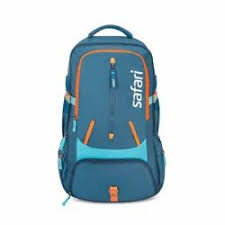backpack: (57, 23, 166, 205)
